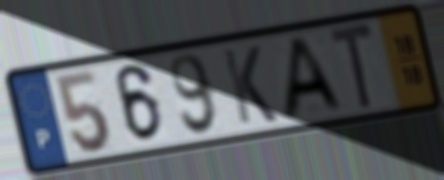5: (51, 67, 113, 156)
6: (113, 62, 166, 146)
9: (169, 52, 222, 137)
A: (279, 34, 348, 123)
K: (219, 43, 281, 128)
T: (326, 19, 377, 115)
